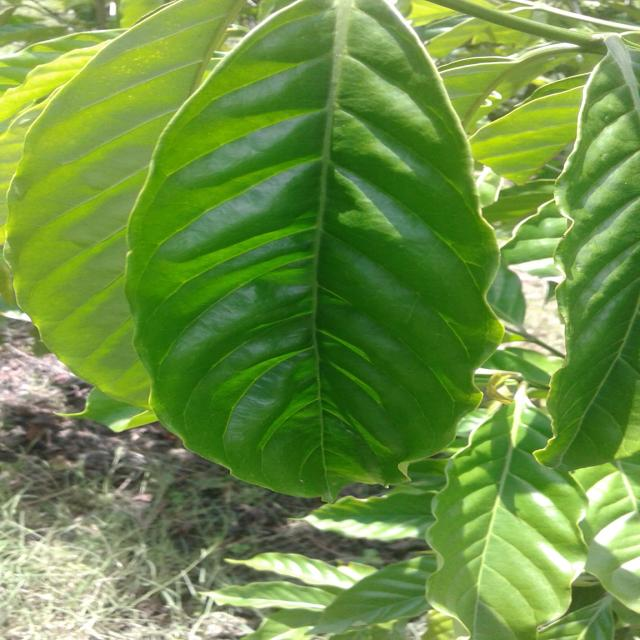Sanas: (129, 0, 505, 503)
